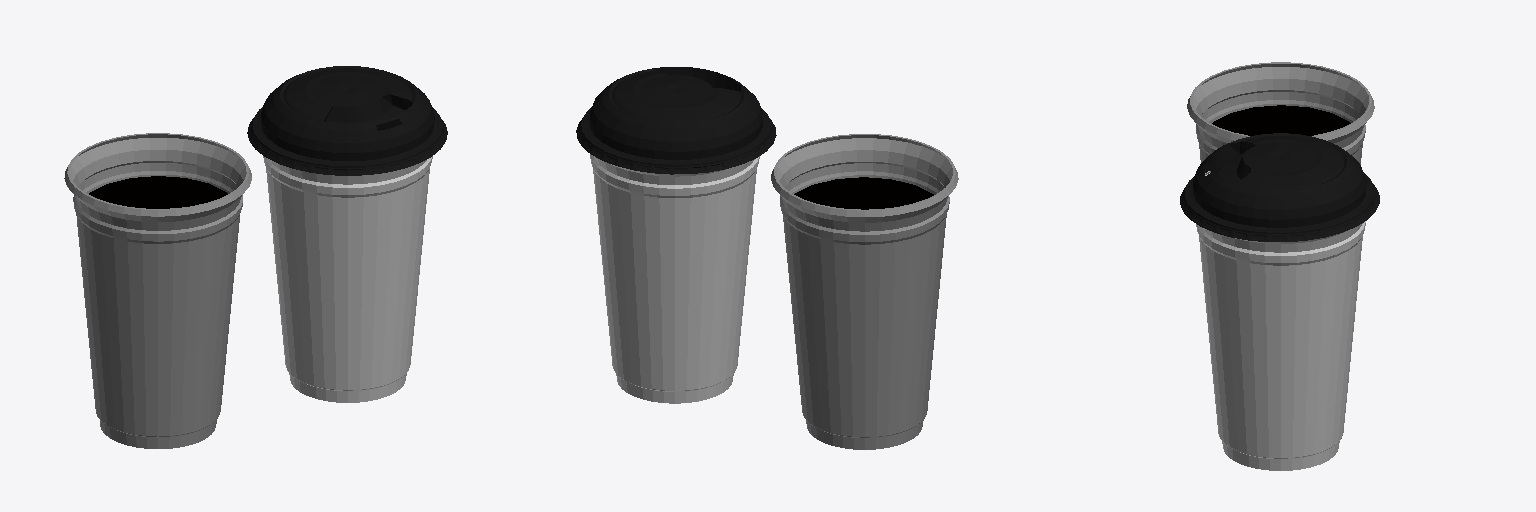
The model's file is ExpressoPot_231.obj.
3 renders of one model, left to right at view 1: azimuth 30°, elevation 25°; view 2: azimuth 150°, elevation 25°; view 3: azimuth 270°, elevation 25°, orthographic.
Parts seen in each view (by area): view 1: ChamferCyl004, ChamferCyl003, Sphere001, Cylinder004; view 2: ChamferCyl004, ChamferCyl003, Sphere001, Cylinder004; view 3: ChamferCyl003, Sphere001, ChamferCyl004, Cylinder004.
Boxes of the visible parts, <box> form: ChamferCyl004: <box>64,133,251,448</box>; ChamferCyl003: <box>263,156,432,402</box>; Sphere001: <box>247,66,447,175</box>; Cylinder004: <box>89,176,227,208</box>; ChamferCyl004: <box>771,134,958,449</box>; ChamferCyl003: <box>590,154,759,403</box>; Sphere001: <box>576,67,776,174</box>; Cylinder004: <box>794,177,933,209</box>; ChamferCyl003: <box>1196,171,1365,470</box>; Sphere001: <box>1180,133,1379,241</box>; ChamferCyl004: <box>1187,62,1374,164</box>; Cylinder004: <box>1212,105,1350,135</box>.
Bounding box in the file's own units: 134 × 105 × 65.23.